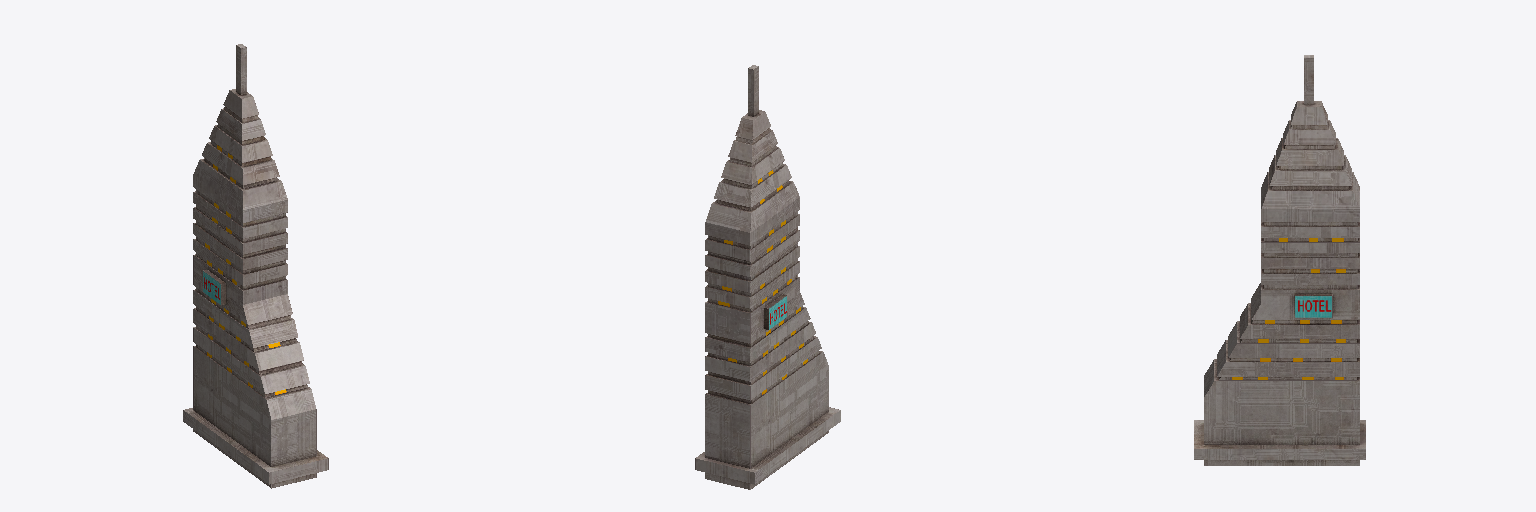
3 views of the same model, side by side, from view 1: azimuth 30°, elevation 25°; view 2: azimuth 150°, elevation 25°; view 3: azimuth 270°, elevation 25° (orthographic).
Parts seen in each view (by area): view 1: sci-building3_Cube; view 2: sci-building3_Cube; view 3: sci-building3_Cube.
Boxes of the visible parts, box(x1,y1,x2,y2) form: sci-building3_Cube: box(183, 44, 328, 488); sci-building3_Cube: box(695, 65, 840, 489); sci-building3_Cube: box(1194, 55, 1365, 465).
Size of the model in its own units: 1.32 by 8.45 by 3.3.
Materials: 1 (1 with a texture image).